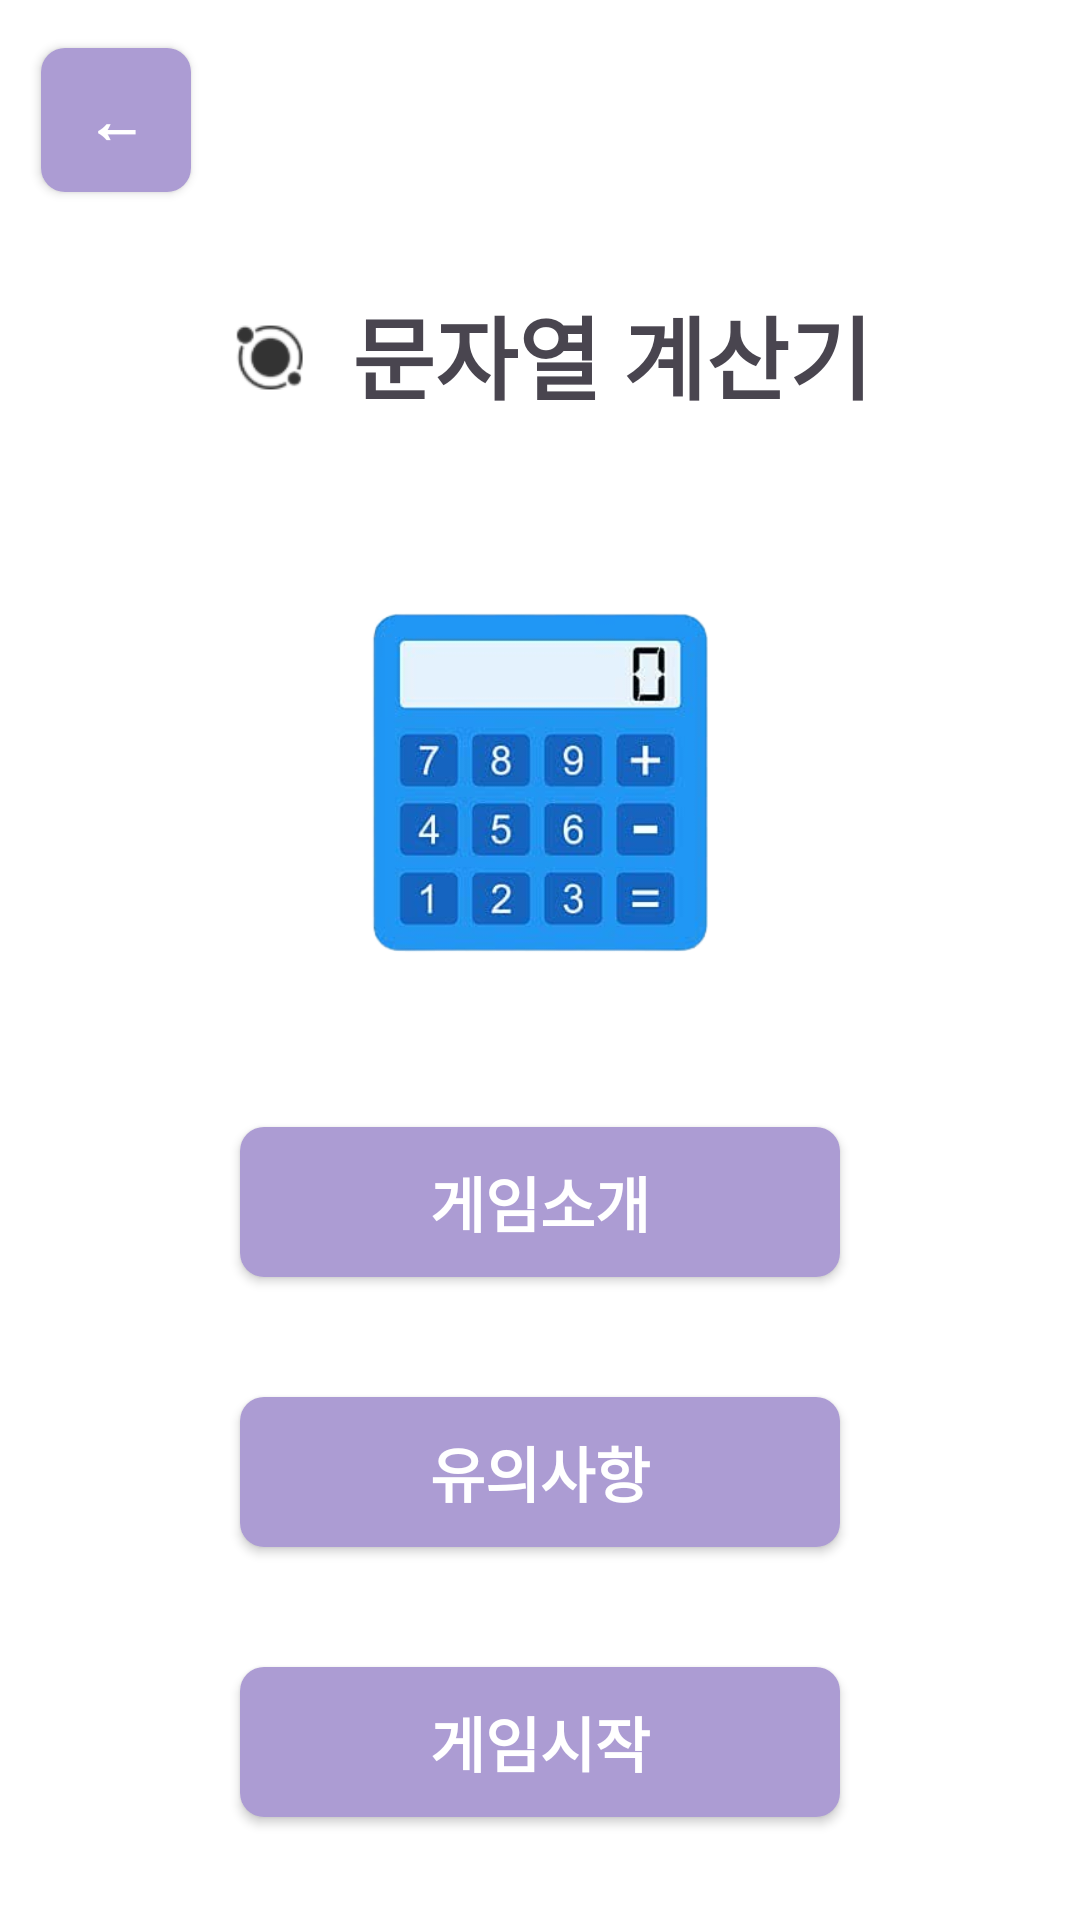

Where icons sit on this 1080×1920 app screen, as (x1, y1, x2, y2):
calculator: (373, 614, 708, 951)
